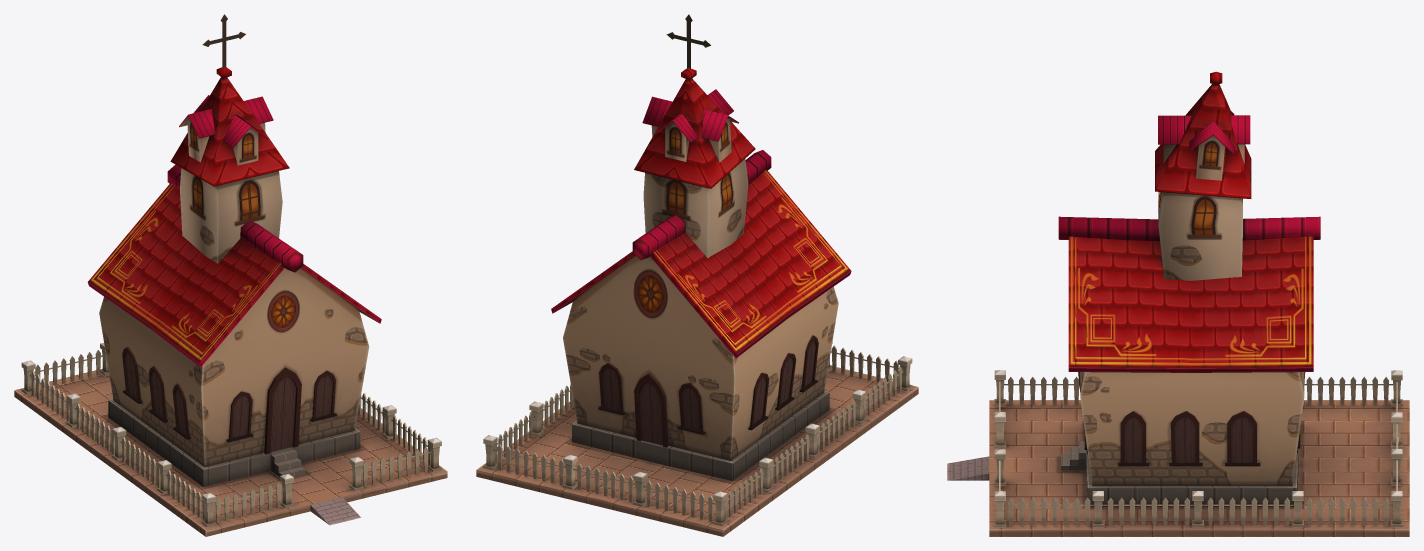
File: Church.FBX
3 renders of one model, left to right at view 1: azimuth 30°, elevation 25°; view 2: azimuth 150°, elevation 25°; view 3: azimuth 270°, elevation 25°, orthographic. The views are drawn at different scales.
Parts seen in each view (by area): view 1: Church; view 2: Church; view 3: Church.
Boxes of the visible parts, left/top/right/bottom form: Church: left=14, top=14, right=447, bottom=536; Church: left=476, top=14, right=918, bottom=536; Church: left=947, top=71, right=1409, bottom=536.
Size of the model in its own units: 2.64 by 4.36 by 3.99.
